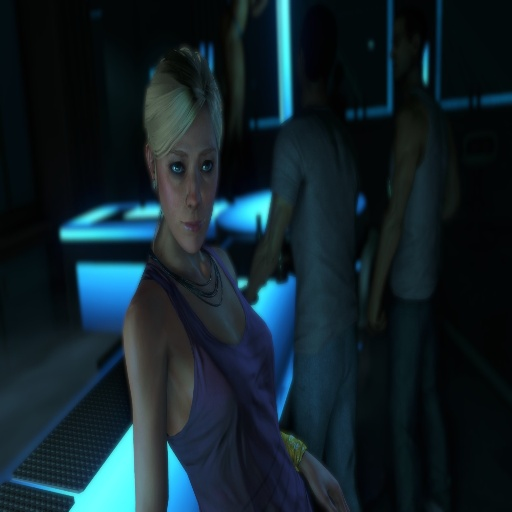hand: (298, 446, 345, 501), (366, 301, 392, 337), (238, 284, 258, 305)
